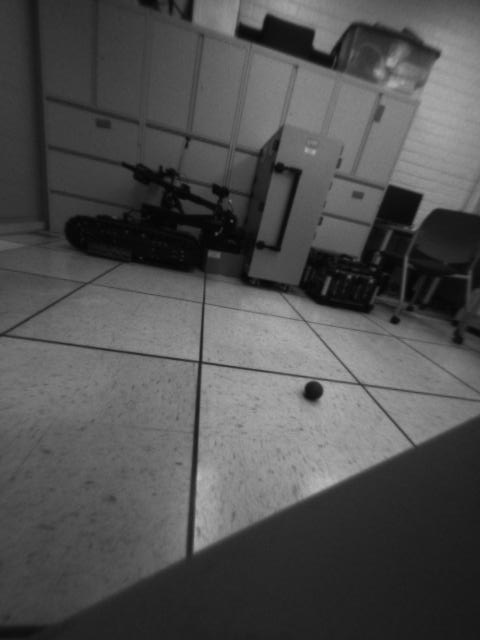dogtoy: (295, 375, 330, 404)
